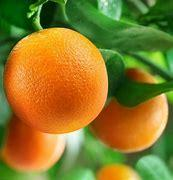orange: (0, 25, 108, 133), (89, 69, 170, 152)
